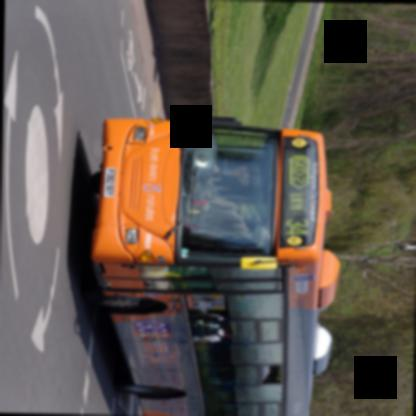backpack: (190, 325, 221, 339)
